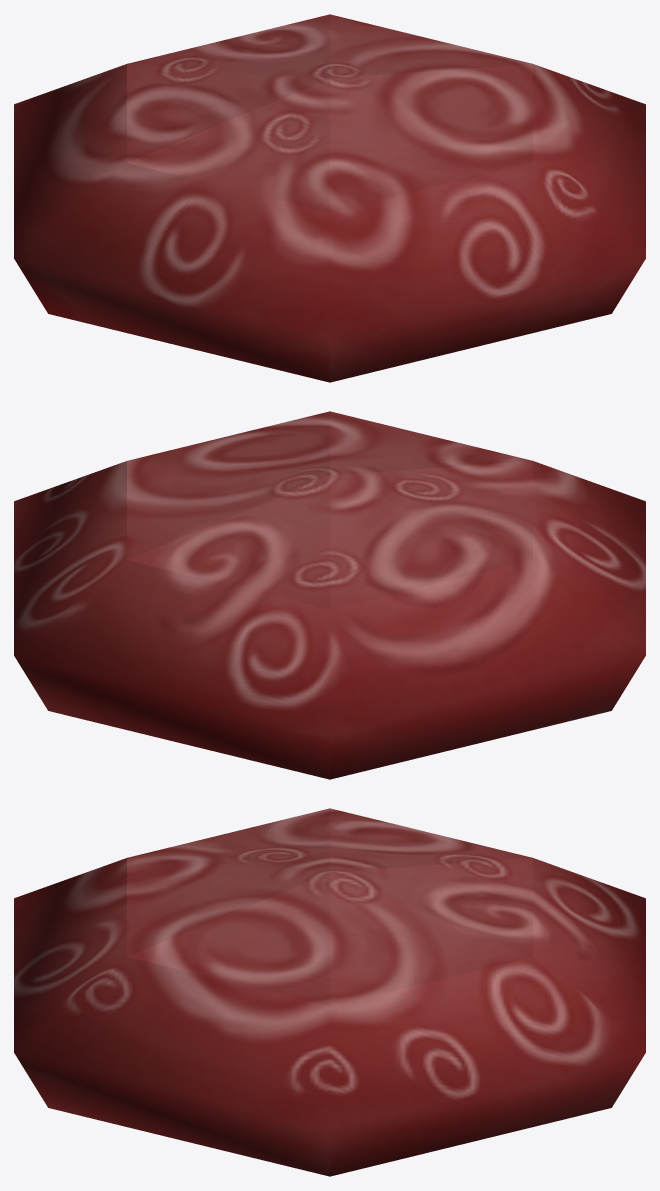
File: champ_tete_01.FBX
The picture shows the model from 3 angles, top to bottom: view 1: azimuth 30°, elevation 25°; view 2: azimuth 150°, elevation 25°; view 3: azimuth 270°, elevation 25°; orthographic projection.
Parts seen in each view (by area): view 1: Object007; view 2: Object007; view 3: Object007.
Boxes of the visible parts, <box> form: Object007: <box>14,14,645,382</box>; Object007: <box>14,411,645,779</box>; Object007: <box>14,808,645,1176</box>.
Size of the model in its own units: 33.3 by 8.38 by 28.84.
